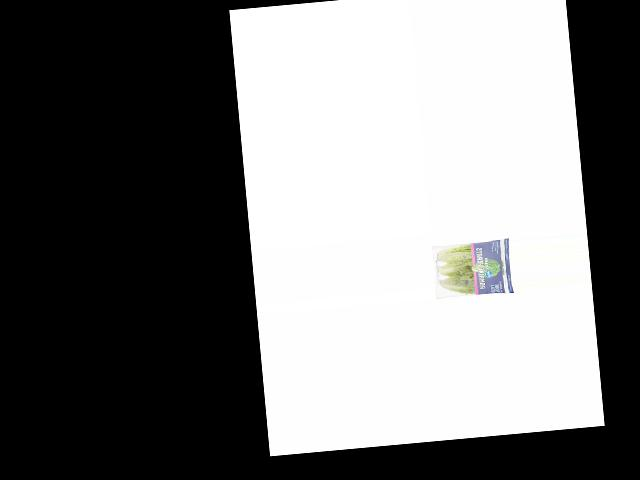lettuce: (433, 236, 512, 301)
